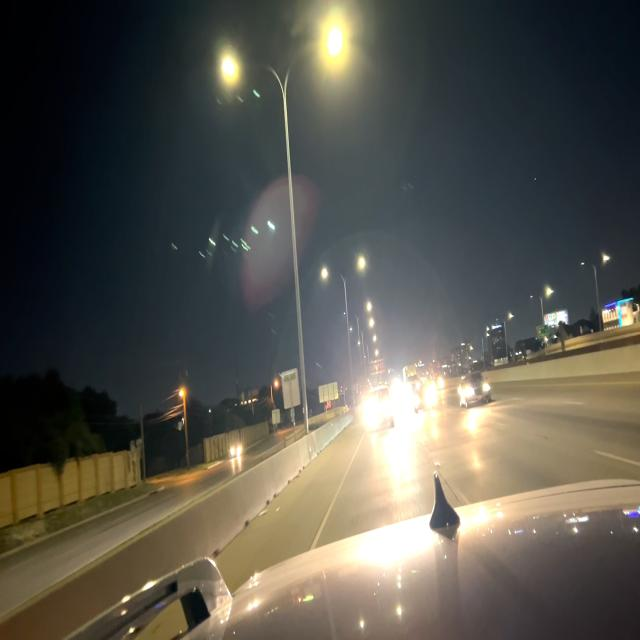back-of-sign: (280, 368, 302, 412), (318, 380, 339, 404), (369, 355, 385, 379)
